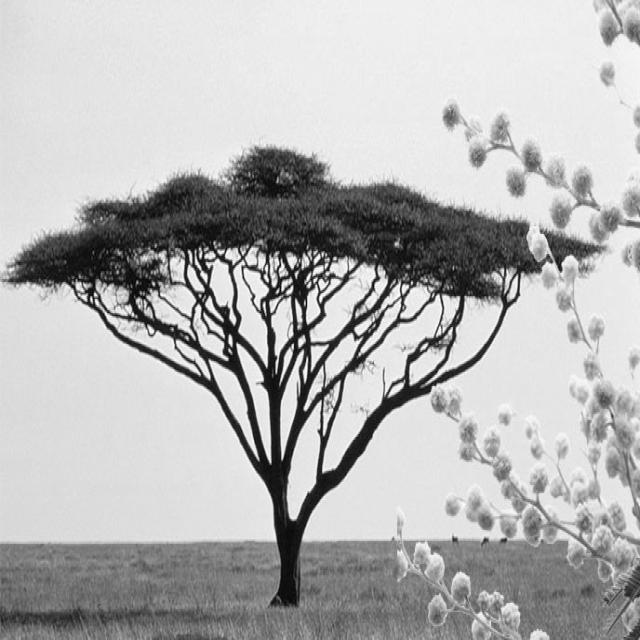Acacia: (5, 134, 588, 565)
